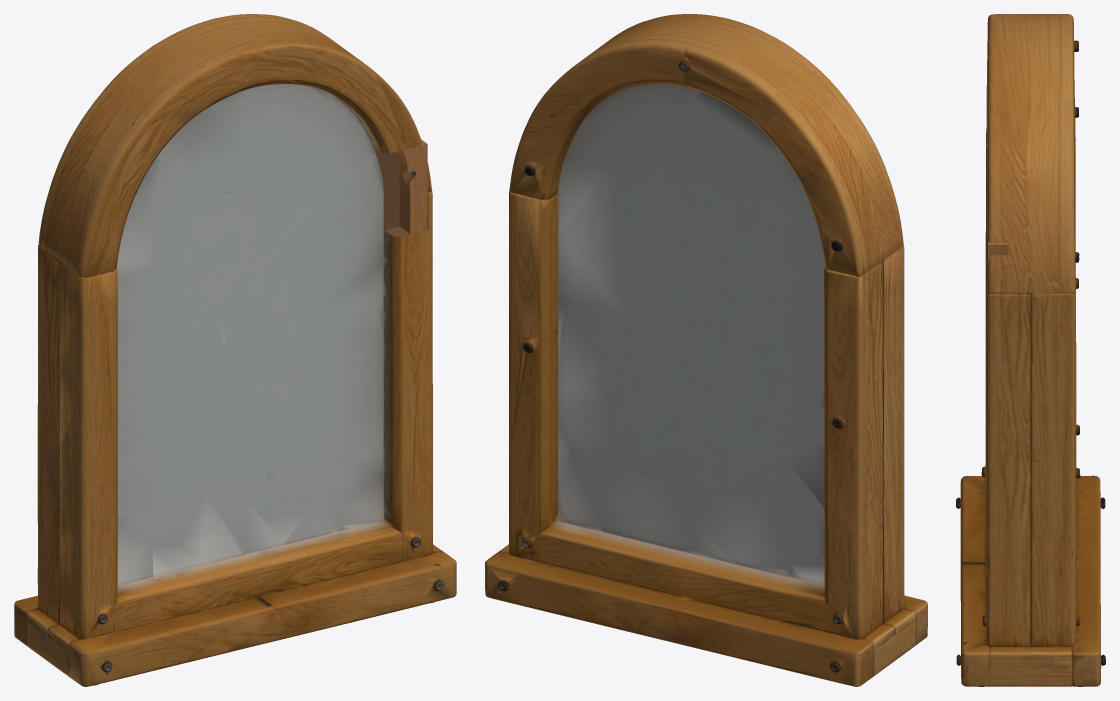
Rendered from regional.glb.
The picture shows the model from 3 angles, left to right: view 1: azimuth 30°, elevation 25°; view 2: azimuth 150°, elevation 25°; view 3: azimuth 270°, elevation 25°; orthographic projection. The views are drawn at different scales.
Visible parts, largest first — view 1: Hi3D source frame, RG04_OpticalJamb; view 2: Hi3D source frame; view 3: Hi3D source frame, RG04_OpticalJamb.
Part boxes in pixels (left/top/right/bottom): Hi3D source frame: left=14, top=14, right=456, bottom=686; RG04_OpticalJamb: left=395, top=139, right=427, bottom=233; Hi3D source frame: left=485, top=14, right=927, bottom=686; Hi3D source frame: left=956, top=14, right=1105, bottom=686; RG04_OpticalJamb: left=988, top=242, right=1008, bottom=264.
Bounding box in the file's own units: 1.76 × 2.64 × 0.6261.
5 materials, 2 textured.
